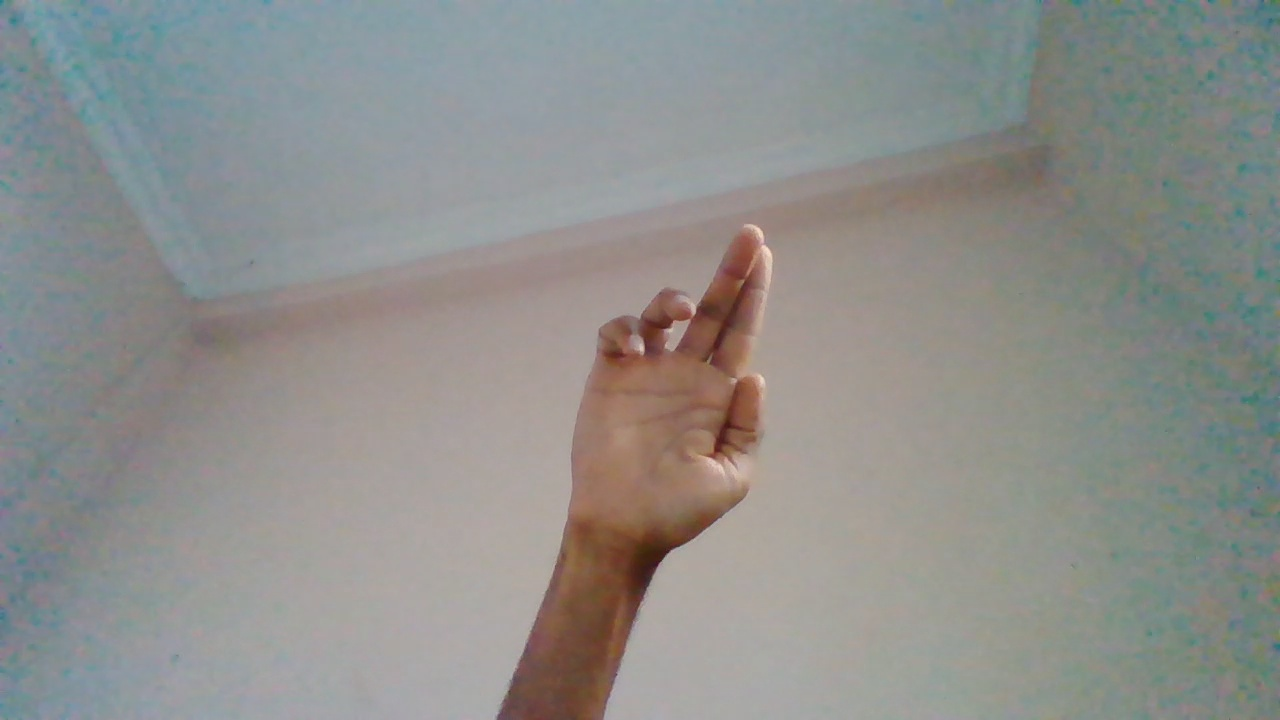gne: (562, 224, 776, 600)
